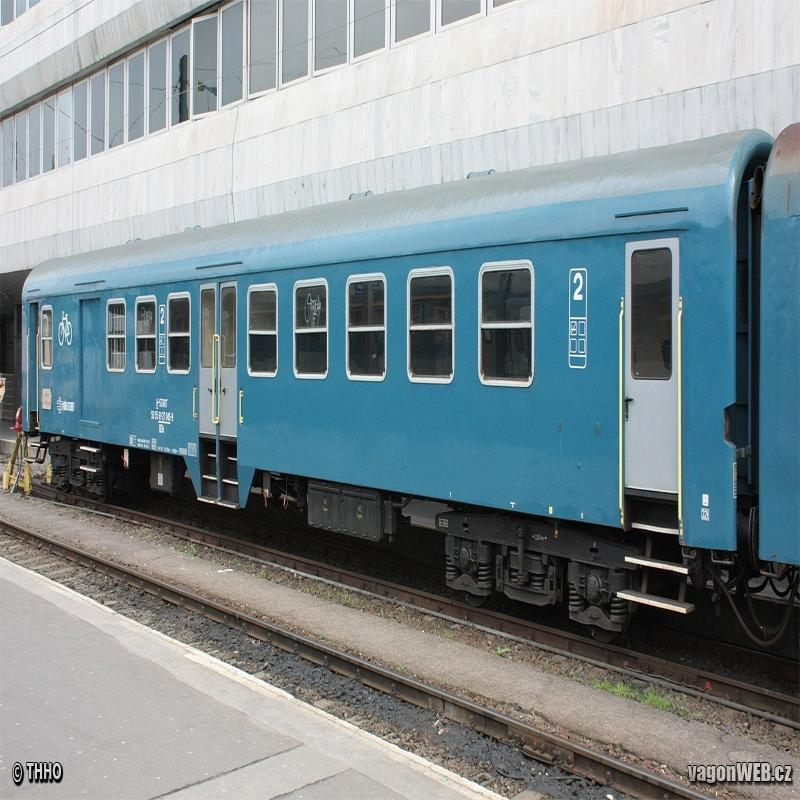train: (23, 130, 767, 687)
